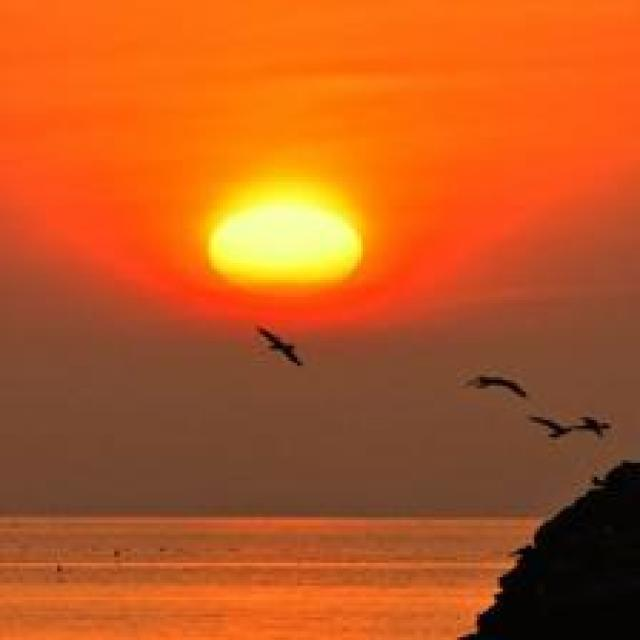sun: (206, 184, 364, 294)
